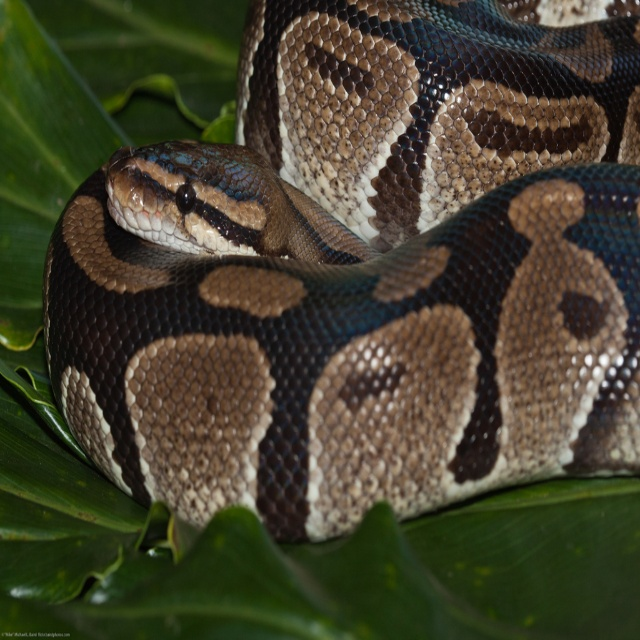Snake: (42, 0, 640, 554)
